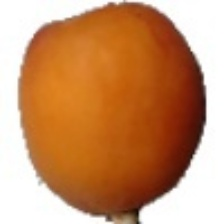apricot: (27, 50, 218, 192)
